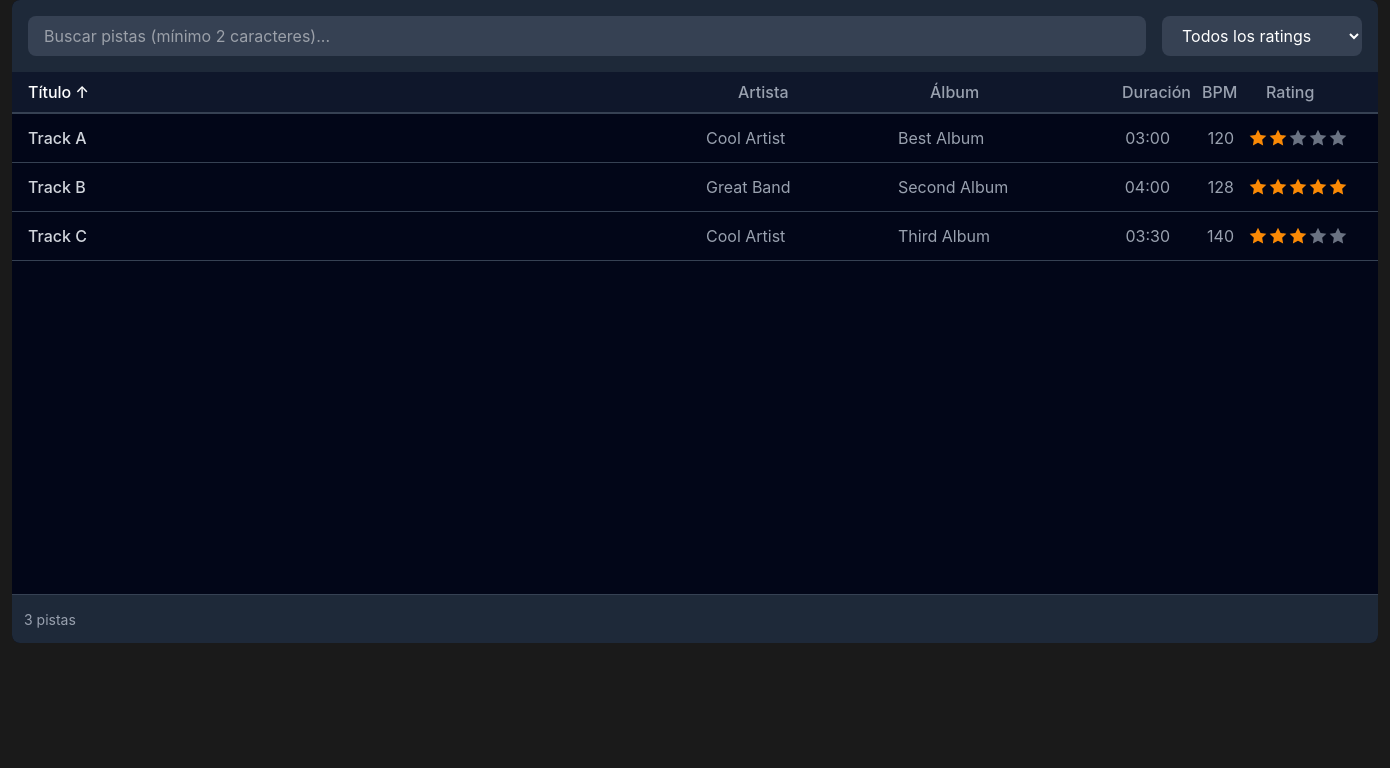
Test: TrackList › debería mostrar contador de filtro en footer
The image size is (1390, 768).
Select "★★★★ y superior" in the dropdown named "Filtrar por rating". click: (1262, 36)
box: x1=1162 y1=16 x2=1362 y2=56
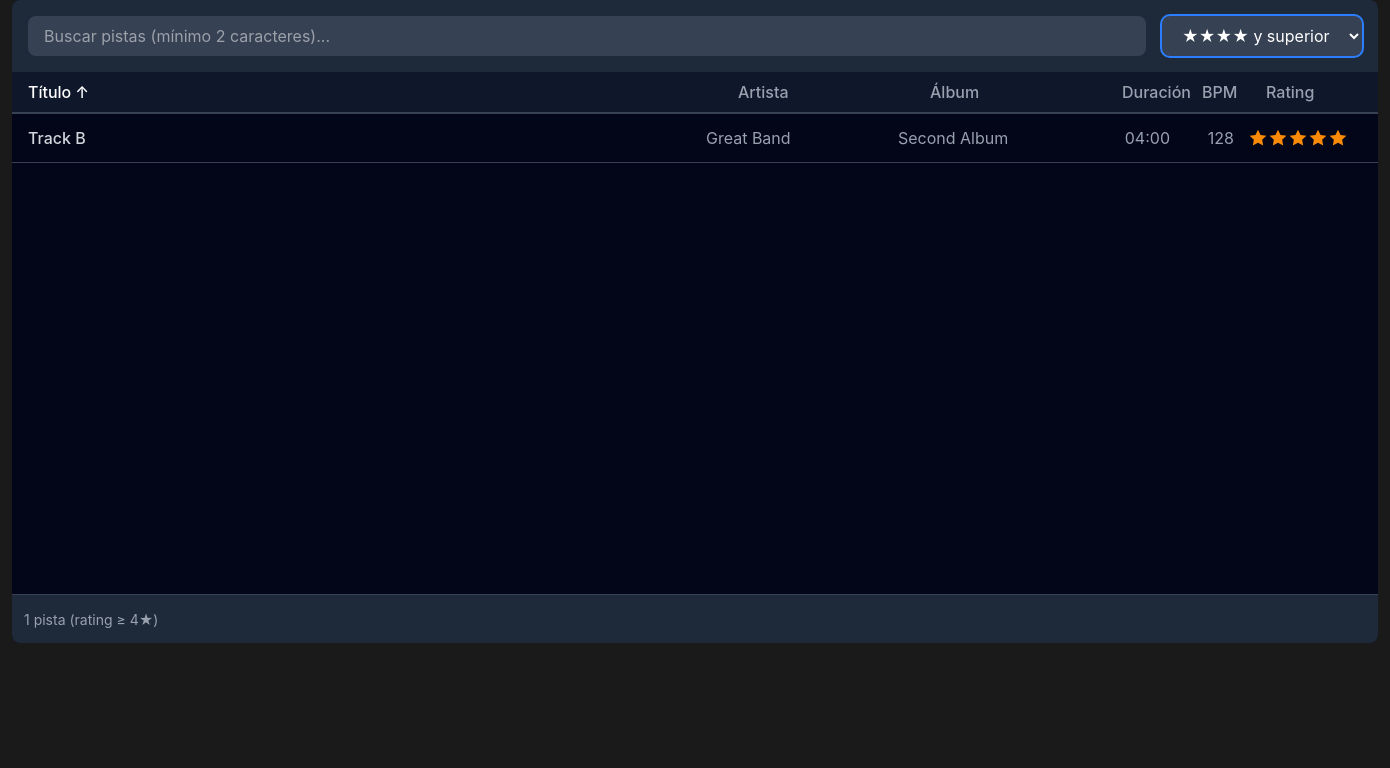
Expected: the text "1 pista (rating ≥ 4★)" is shown, x1=24 y1=611 x2=158 y2=628
